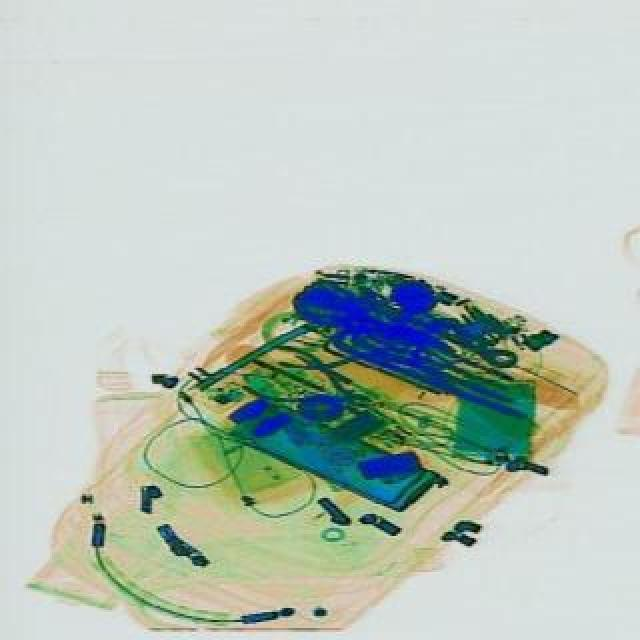scissors: (424, 318, 516, 372)
wrench: (240, 336, 384, 432)
